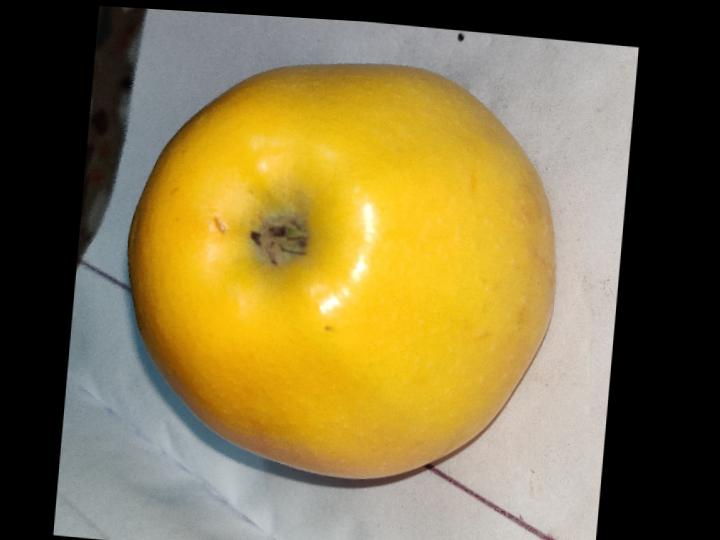apple: (130, 63, 553, 478)
